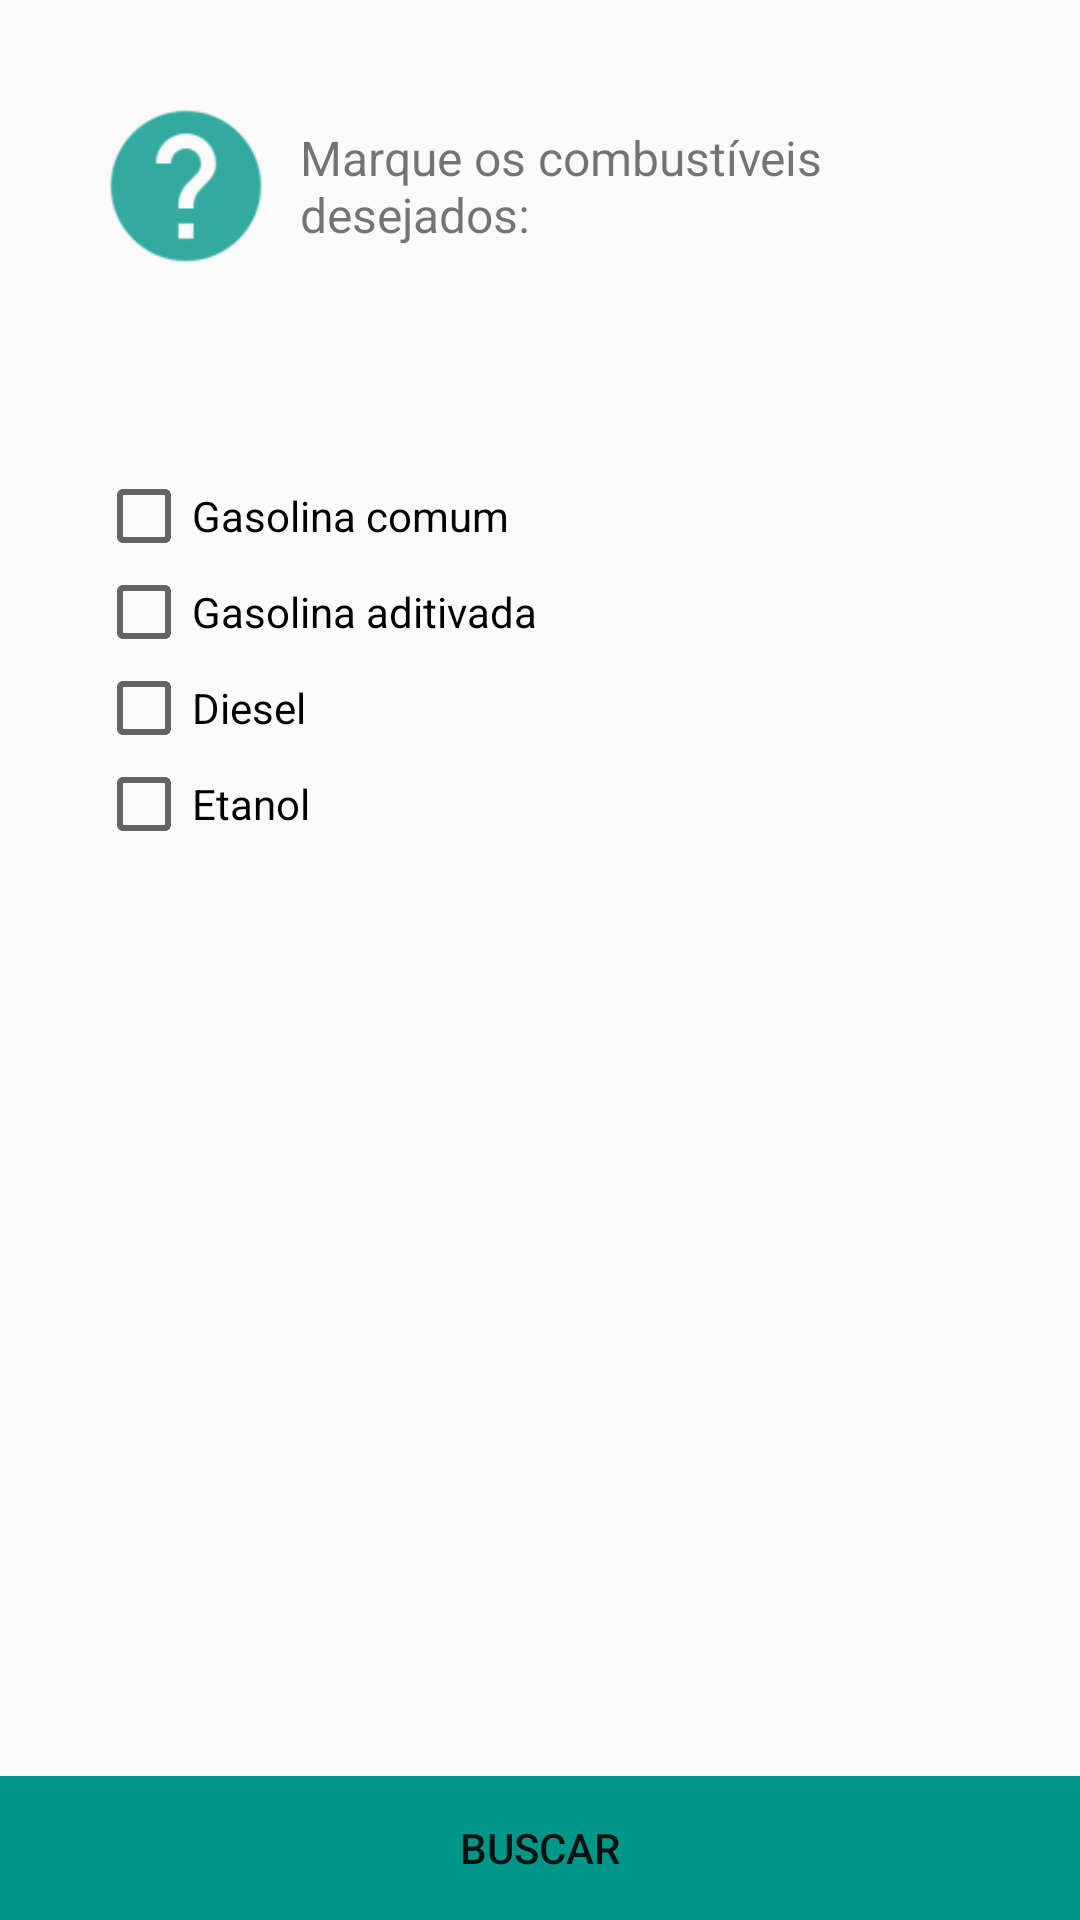

Icons on this 1080 × 1920 Android screen, each with the point to tap as [x,y]:
dica: [186,186]
